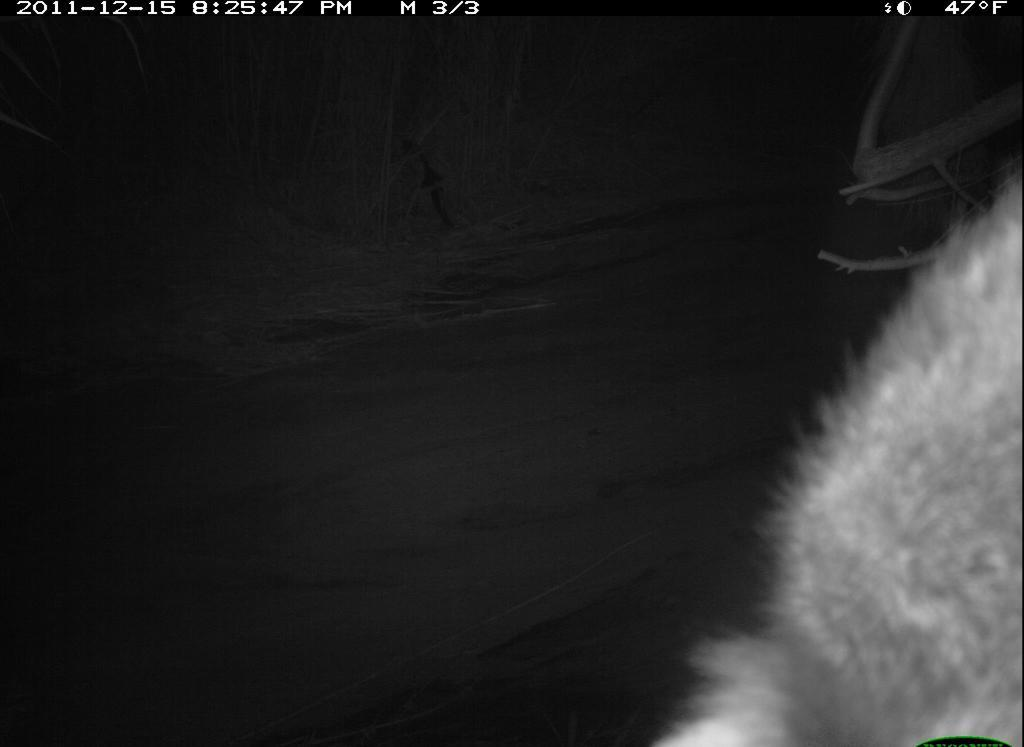raccoon: (643, 143, 1023, 747)
